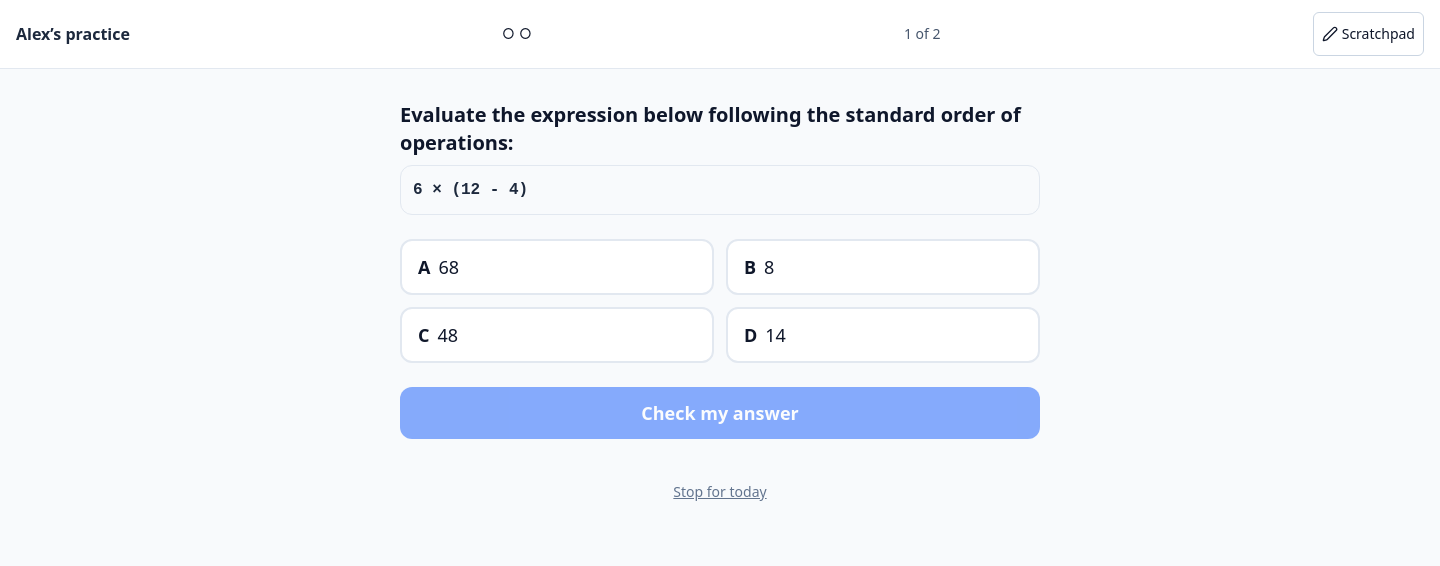
Test: KidPractice › praises a right answer
Click the button "C48": (424, 335) [400,307,714,363]
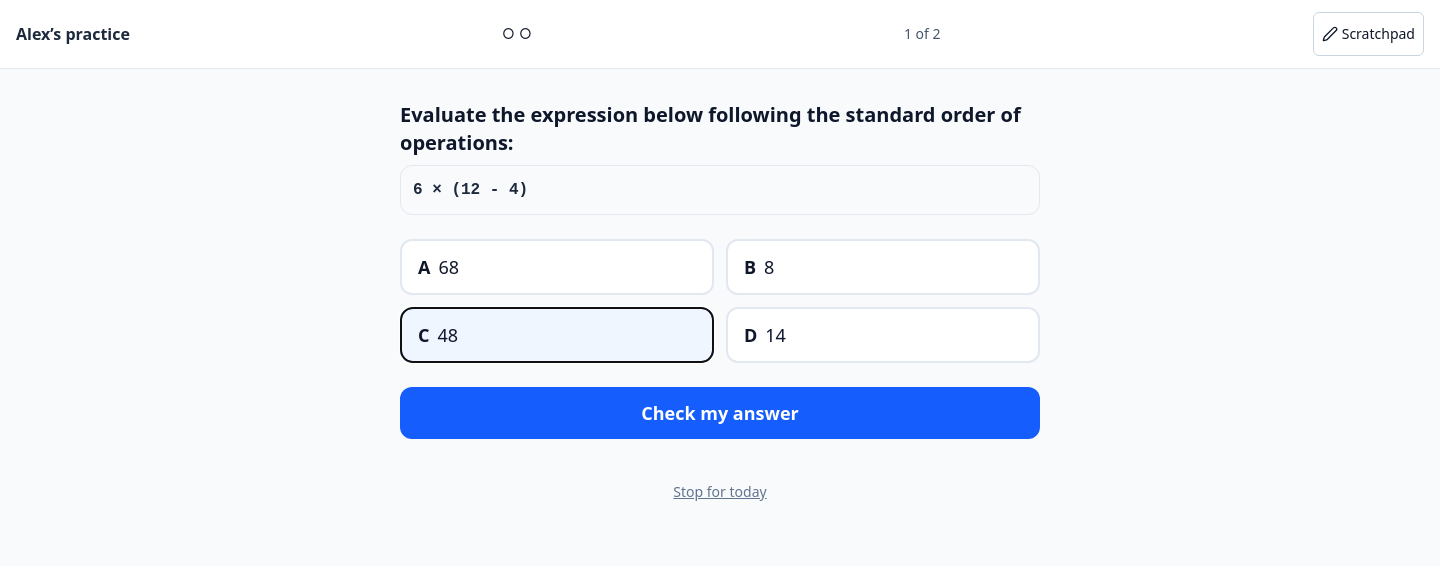
Click the button "Check my answer": (720, 413) [400,387,1040,439]
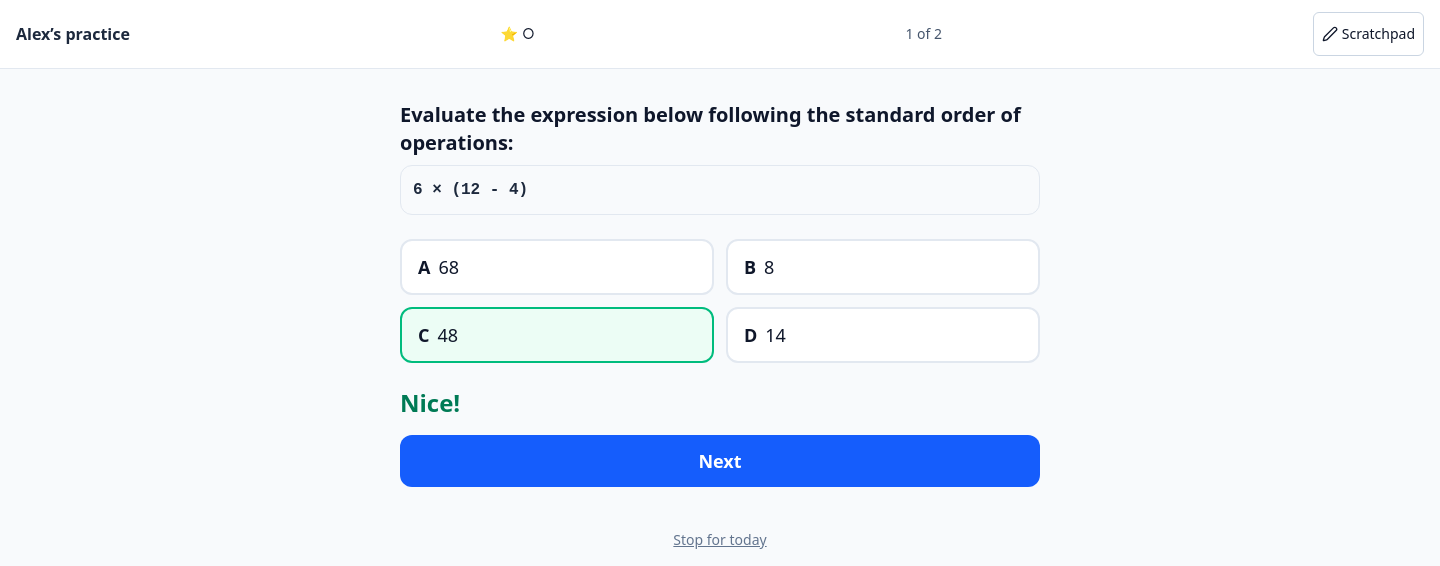
expect the heading "Nice!" is shown: met, box [400,386,460,419]
